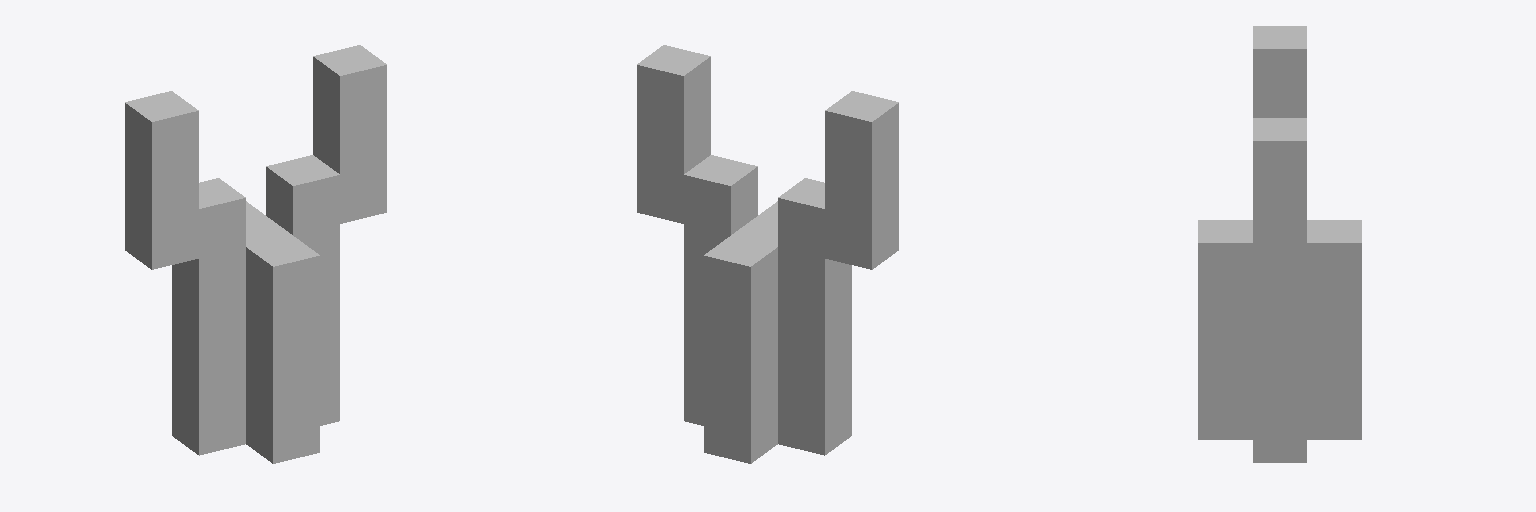
Rendered from trapworks_spears_spear_support.obj.
3 views of the same model, side by side, from view 1: azimuth 30°, elevation 25°; view 2: azimuth 150°, elevation 25°; view 3: azimuth 270°, elevation 25° (orthographic).
Parts seen in each view (by area): view 1: node_0_0_0; view 2: node_0_0_0; view 3: node_0_0_0.
Boxes of the visible parts, x1=… form: node_0_0_0: x1=125, y1=45, x2=386, y2=463; node_0_0_0: x1=637, y1=45, x2=898, y2=463; node_0_0_0: x1=1198, y1=26, x2=1361, y2=462.
Size of the model in its own units: 0.3125 by 0.4375 by 0.1875.